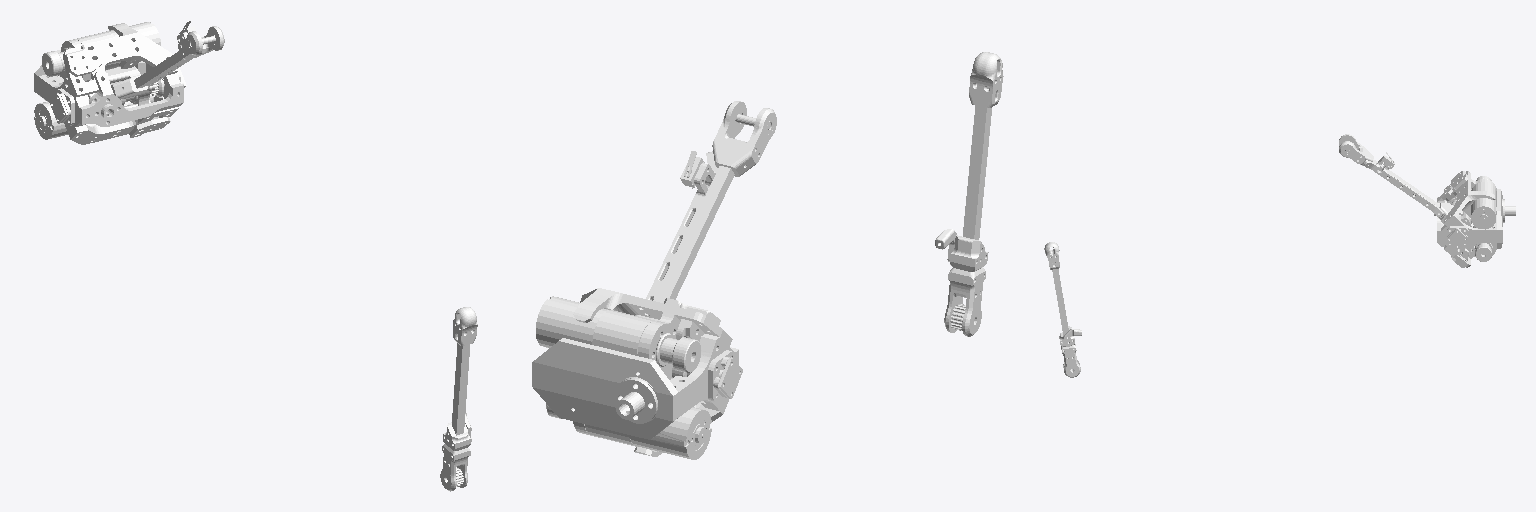
The robot description file, URDF, robot "dog_1.SLDASM":
<?xml version="1.0" encoding="utf-8"?>
<!-- This URDF was automatically created by SolidWorks to URDF Exporter! Originally created by [author] ([email redacted]) 
     Commit Version: 1.5.1-0-g916b5db  Build Version: 1.5.7152.31018
     For more information, please see http://wiki.ros.org/sw_urdf_exporter -->
<robot
  name="dog_1.SLDASM">
  <link
    name="base_link">
    <inertial>
      <origin
        xyz="-8.3591E-08 0.0010717 0.00033885"
        rpy="0 0 0" />
      <mass
        value="0.41372" />
      <inertia
        ixx="0.00026854"
        ixy="-1.6836E-06"
        ixz="-9.0148E-10"
        iyy="0.00011738"
        iyz="4.6547E-07"
        izz="0.0003447" />
    </inertial>
    <visual>
      <origin
        xyz="0 0 0"
        rpy="0 0 0" />
      <geometry>
        <mesh
          filename="package://dog_1.SLDASM/meshes/base_link.STL" />
      </geometry>
      <material
        name="">
        <color
          rgba="1 1 1 1" />
      </material>
    </visual>
    <collision>
      <origin
        xyz="0 0 0"
        rpy="0 0 0" />
      <geometry>
        <mesh
          filename="package://dog_1.SLDASM/meshes/base_link.STL" />
      </geometry>
    </collision>
  </link>
  <link
    name="leg_ab_FL">
    <inertial>
      <origin
        xyz="-0.017463 0.040247 0.00023921"
        rpy="0 0 0" />
      <mass
        value="0.13142" />
      <inertia
        ixx="1.3729E-05"
        ixy="9.8297E-08"
        ixz="4.2552E-07"
        iyy="3.8003E-05"
        iyz="-2.5794E-07"
        izz="3.9203E-05" />
    </inertial>
    <visual>
      <origin
        xyz="0 0 0"
        rpy="0 0 0" />
      <geometry>
        <mesh
          filename="package://dog_1.SLDASM/meshes/leg_ab_FL.STL" />
      </geometry>
      <material
        name="">
        <color
          rgba="1 1 1 1" />
      </material>
    </visual>
    <collision>
      <origin
        xyz="0 0 0"
        rpy="0 0 0" />
      <geometry>
        <mesh
          filename="package://dog_1.SLDASM/meshes/leg_ab_FL.STL" />
      </geometry>
    </collision>
  </link>
  <joint
    name="joint_ab_FL"
    type="revolute">
    <origin
      xyz="0.04 -0.067117 -0.01"
      rpy="0 0.084312 3.1416" />
    <parent
      link="base_link" />
    <child
      link="leg_ab_FL" />
    <axis
      xyz="0 -1 0" />
    <limit
      lower="-0.78"
      upper="0.78"
      effort="1"
      velocity="0" />
  </joint>
  <link
    name="leg_hip_FL">
    <inertial>
      <origin
        xyz="-0.025561 -0.01099 -0.025634"
        rpy="0 0 0" />
      <mass
        value="0.021021" />
      <inertia
        ixx="5.1575E-06"
        ixy="-3.4462E-08"
        ixz="-2.2133E-08"
        iyy="2.3302E-06"
        iyz="-2.0878E-06"
        izz="3.3639E-06" />
    </inertial>
    <visual>
      <origin
        xyz="0 0 0"
        rpy="0 0 0" />
      <geometry>
        <mesh
          filename="package://dog_1.SLDASM/meshes/leg_hip_FL.STL" />
      </geometry>
      <material
        name="">
        <color
          rgba="1 1 1 1" />
      </material>
    </visual>
    <collision>
      <origin
        xyz="0 0 0"
        rpy="0 0 0" />
      <geometry>
        <mesh
          filename="package://dog_1.SLDASM/meshes/leg_hip_FL.STL" />
      </geometry>
    </collision>
  </link>
  <joint
    name="joint_hip_FL"
    type="revolute">
    <origin
      xyz="0 0 0"
      rpy="0 0 0" />
    <parent
      link="leg_ab_FL" />
    <child
      link="leg_hip_FL" />
    <axis
      xyz="1 0 0" />
    <limit
      lower="0"
      upper="1.57"
      effort="1"
      velocity="0" />
  </joint>
  <link
    name="leg_knee_FL">
    <inertial>
      <origin
        xyz="-0.0068697 0.049653 0.00032046"
        rpy="0 0 0" />
      <mass
        value="0.0099931" />
      <inertia
        ixx="2.513E-06"
        ixy="-2.0041E-08"
        ixz="9.4607E-10"
        iyy="1.6234E-07"
        iyz="-1.0125E-08"
        izz="2.4283E-06" />
    </inertial>
    <visual>
      <origin
        xyz="0 0 0"
        rpy="0 0 0" />
      <geometry>
        <mesh
          filename="package://dog_1.SLDASM/meshes/leg_knee_FL.STL" />
      </geometry>
      <material
        name="">
        <color
          rgba="1 1 1 1" />
      </material>
    </visual>
    <collision>
      <origin
        xyz="0 0 0"
        rpy="0 0 0" />
      <geometry>
        <mesh
          filename="package://dog_1.SLDASM/meshes/leg_knee_FL.STL" />
      </geometry>
    </collision>
  </link>
  <joint
    name="joint_knee_FL"
    type="revolute">
    <origin
      xyz="-0.0173 -0.081412 -0.078602"
      rpy="-0.86329 0 0" />
    <parent
      link="leg_hip_FL" />
    <child
      link="leg_knee_FL" />
    <axis
      xyz="-1 0 0" />
    <limit
      lower="0"
      upper="1.57"
      effort="1"
      velocity="0" />
  </joint>
</robot>

--- What the picture shows (computed from the rendered views, not written in the file) ---
The picture shows the robot from 3 angles, left to right: view 1: azimuth 30°, elevation 25°; view 2: azimuth 150°, elevation 25°; view 3: azimuth 270°, elevation 25°; orthographic projection.
Model dog_1.SLDASM with 4 links and 3 joints (3 revolute), rooted at base_link, posed all joints at 0.
Visible links, largest first — view 1: leg_ab_FL, leg_knee_FL, leg_hip_FL; view 2: leg_ab_FL, leg_hip_FL, leg_knee_FL; view 3: leg_ab_FL, leg_hip_FL, leg_knee_FL.
Link boxes in pixels (x1,y1,x2,y2): leg_ab_FL: (34,22,186,144); leg_knee_FL: (440,307,477,491); leg_hip_FL: (108,21,224,107); leg_ab_FL: (532,288,742,459); leg_hip_FL: (634,101,776,379); leg_knee_FL: (935,52,1003,336); leg_ab_FL: (1434,171,1515,267); leg_hip_FL: (1339,134,1470,226); leg_knee_FL: (1044,242,1081,377).
Size in the robot's own frame: 0.0956 by 0.443 by 0.2299 metres.
3 mesh visuals loaded from 4 distinct referenced files (3 binary STL); not drawn: 1 (reference not matched to a file when rendering).